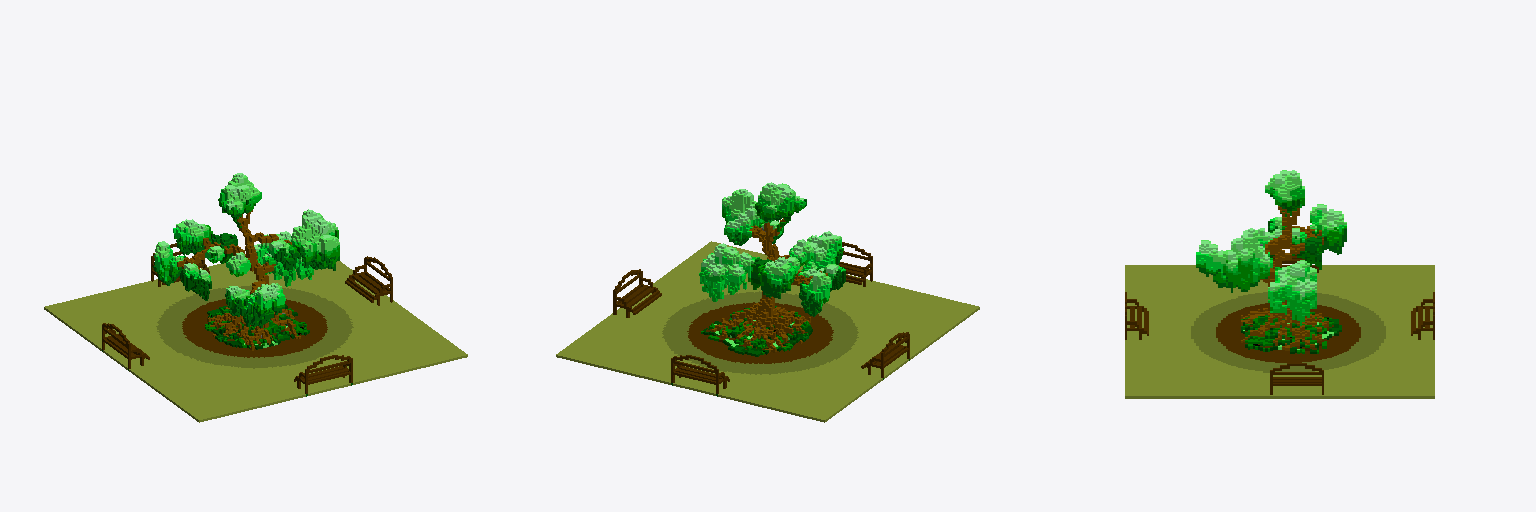
3 renders of one model, left to right at view 1: azimuth 30°, elevation 25°; view 2: azimuth 150°, elevation 25°; view 3: azimuth 270°, elevation 25°, orthographic.
Parts seen in each view (by area): view 1: object 1; view 2: object 1; view 3: object 1.
Part boxes in pixels (x1,y1,x2,y2): object 1: (44,173,467,422); object 1: (556,182,979,422); object 1: (1125,170,1434,398).
Size of the model in its own units: 12.6 by 7.1 by 12.6.
1 materials, 1 textured.